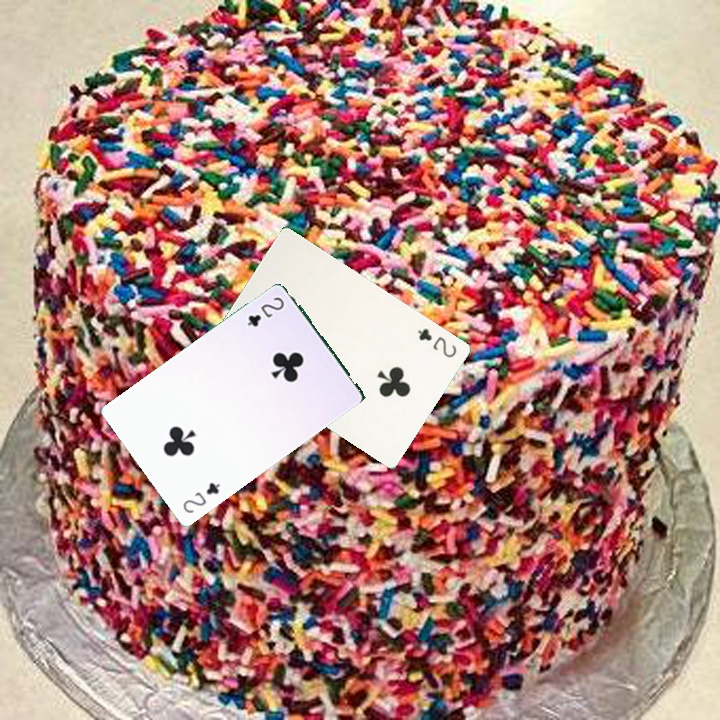2c: (413, 324, 459, 361), (179, 478, 223, 516), (243, 293, 287, 329)
